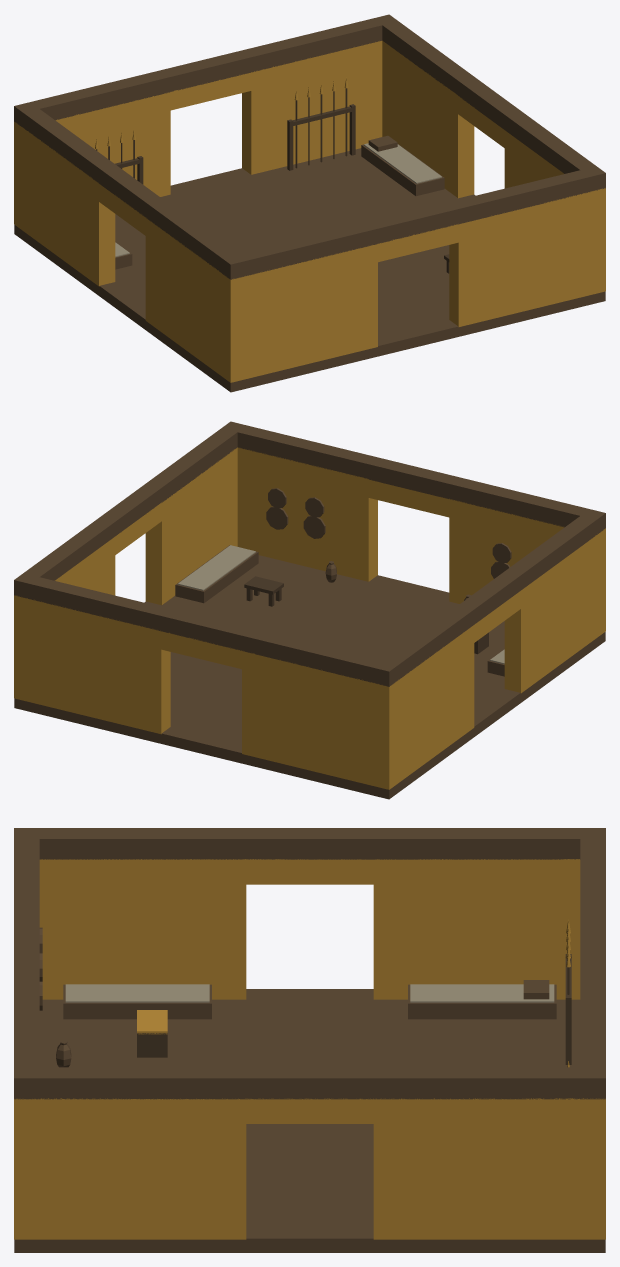
File: BronzeLevyBarracks.fbx
3 renders of one model, top to bottom at view 1: azimuth 30°, elevation 25°; view 2: azimuth 150°, elevation 25°; view 3: azimuth 270°, elevation 25°, orthographic. The views are drawn at different scales.
Parts seen in each view (by area): view 1: BronzeLevyBarracks; view 2: BronzeLevyBarracks; view 3: BronzeLevyBarracks.
Boxes of the visible parts, box(x1,y1,x2,y2) form: BronzeLevyBarracks: box(14, 14, 605, 392); BronzeLevyBarracks: box(14, 421, 605, 799); BronzeLevyBarracks: box(14, 828, 605, 1252).
Size of the model in its own units: 1202 by 392 by 1202.
Materials: 4 (4 with a texture image).
